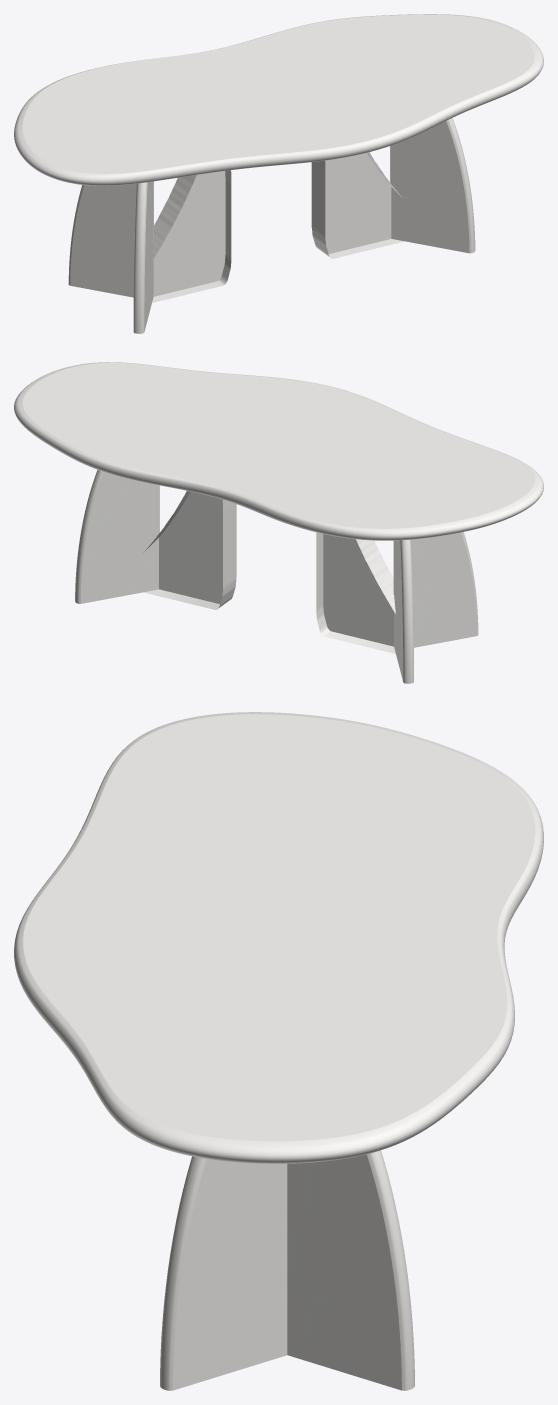
The model's file is purewhite_toplast_round_plane.glb.
3 renders of one model, top to bottom at view 1: azimuth 30°, elevation 25°; view 2: azimuth 150°, elevation 25°; view 3: azimuth 270°, elevation 25°, orthographic. The views are drawn at different scales.
Parts seen in each view (by area): view 1: round_toplast, plane_singleright2, plane_single1, plane_single2, plane_singleleft1, plane_singleright1; view 2: round_toplast, plane_singleleft2, plane_single2, plane_single1, plane_singleright1, plane_singleleft1; view 3: round_toplast, plane_singleleft2, plane_singleright2.
Part boxes in pixels (x1,y1,x2,y2): round_toplast: [14, 14, 543, 185]; plane_singleright2: [390, 118, 475, 253]; plane_single1: [152, 170, 231, 302]; plane_single2: [311, 152, 404, 258]; plane_singleleft1: [68, 181, 153, 297]; plane_singleright1: [133, 181, 153, 333]; round_toplast: [14, 362, 543, 540]; plane_singleleft2: [75, 470, 159, 603]; plane_single2: [143, 491, 236, 609]; plane_single1: [316, 532, 395, 653]; plane_singleright1: [393, 532, 478, 647]; plane_singleleft1: [394, 539, 413, 683]; round_toplast: [14, 712, 543, 1163]; plane_singleleft2: [287, 1150, 414, 1390]; plane_singleright2: [160, 1156, 287, 1390].
Size of the model in its own units: 7.5 by 2.49 by 3.8.
1 material, 1 textured.
